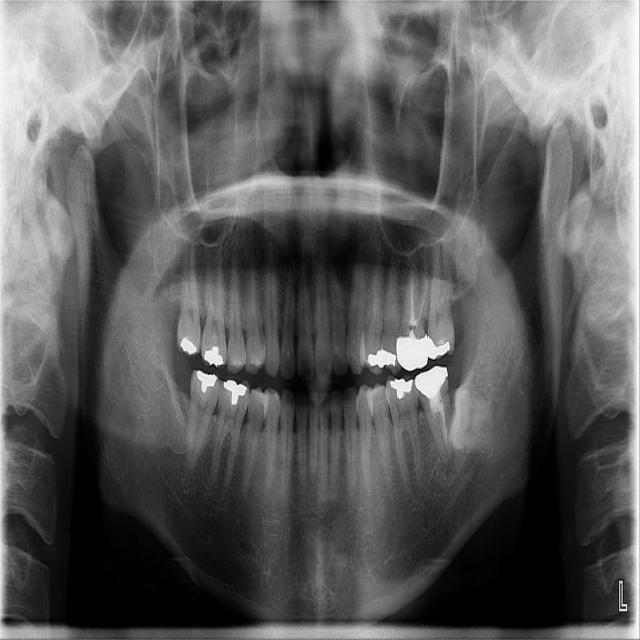Crown: (396, 326, 429, 372), (415, 365, 449, 407)
Filling: (222, 381, 248, 405), (426, 335, 450, 361), (390, 378, 413, 400), (196, 371, 218, 393), (204, 345, 224, 368), (180, 336, 199, 355), (367, 349, 384, 369), (382, 350, 397, 366)
Periapical lesion: (413, 482, 447, 523)
Root Canal Treatment: (416, 281, 426, 320), (439, 407, 447, 446), (410, 273, 415, 325), (432, 411, 438, 433)
impacted tooth: (450, 386, 509, 448)
